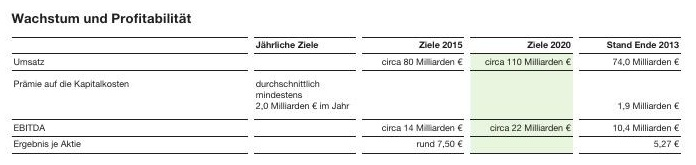table: (0, 0, 696, 165)
